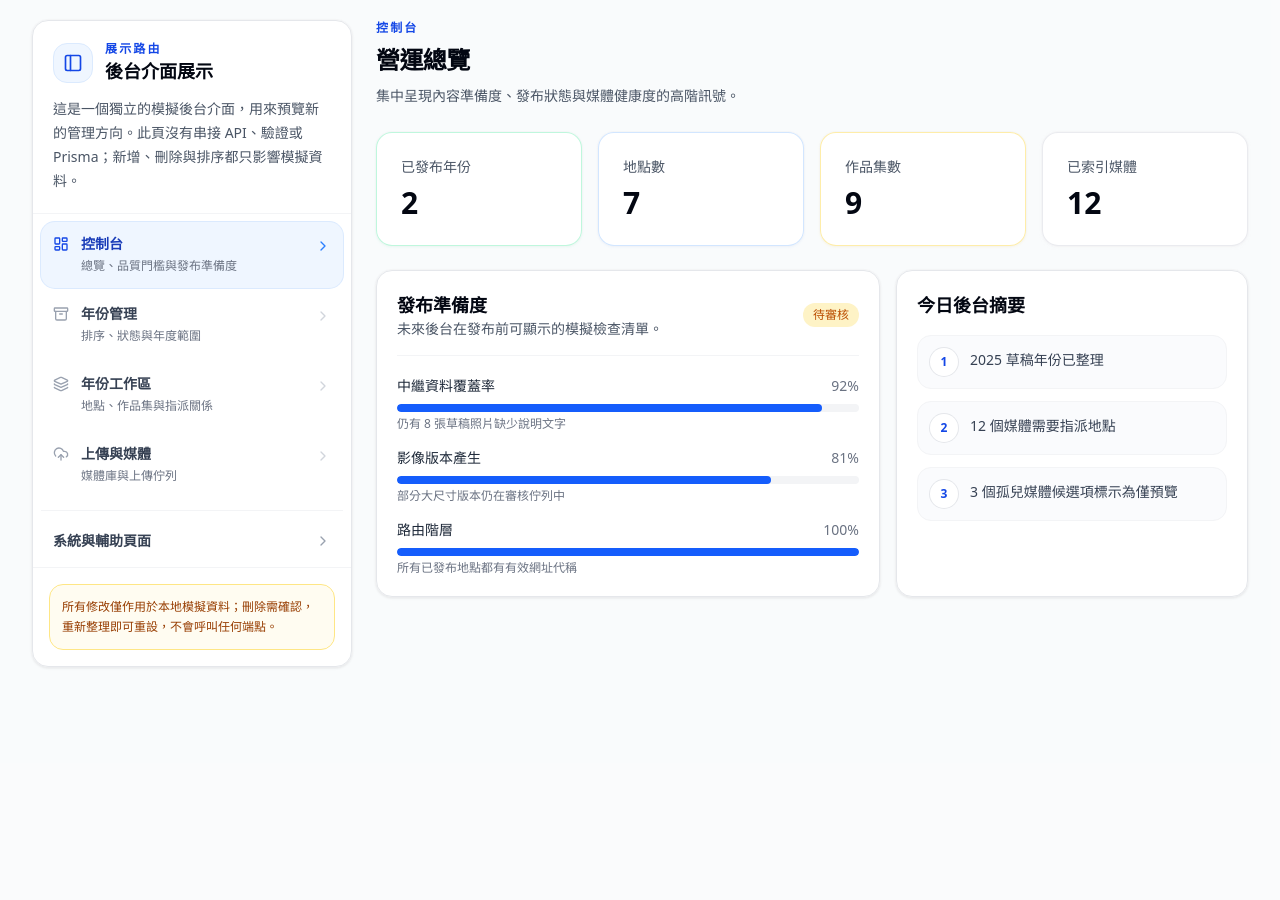
Scenario: bulk deletion clears selection and shows an empty library
Click the button "上傳與媒體 媒體庫與上傳佇列" at (116, 454), box top-left (41, 432), bottom-right (343, 498)
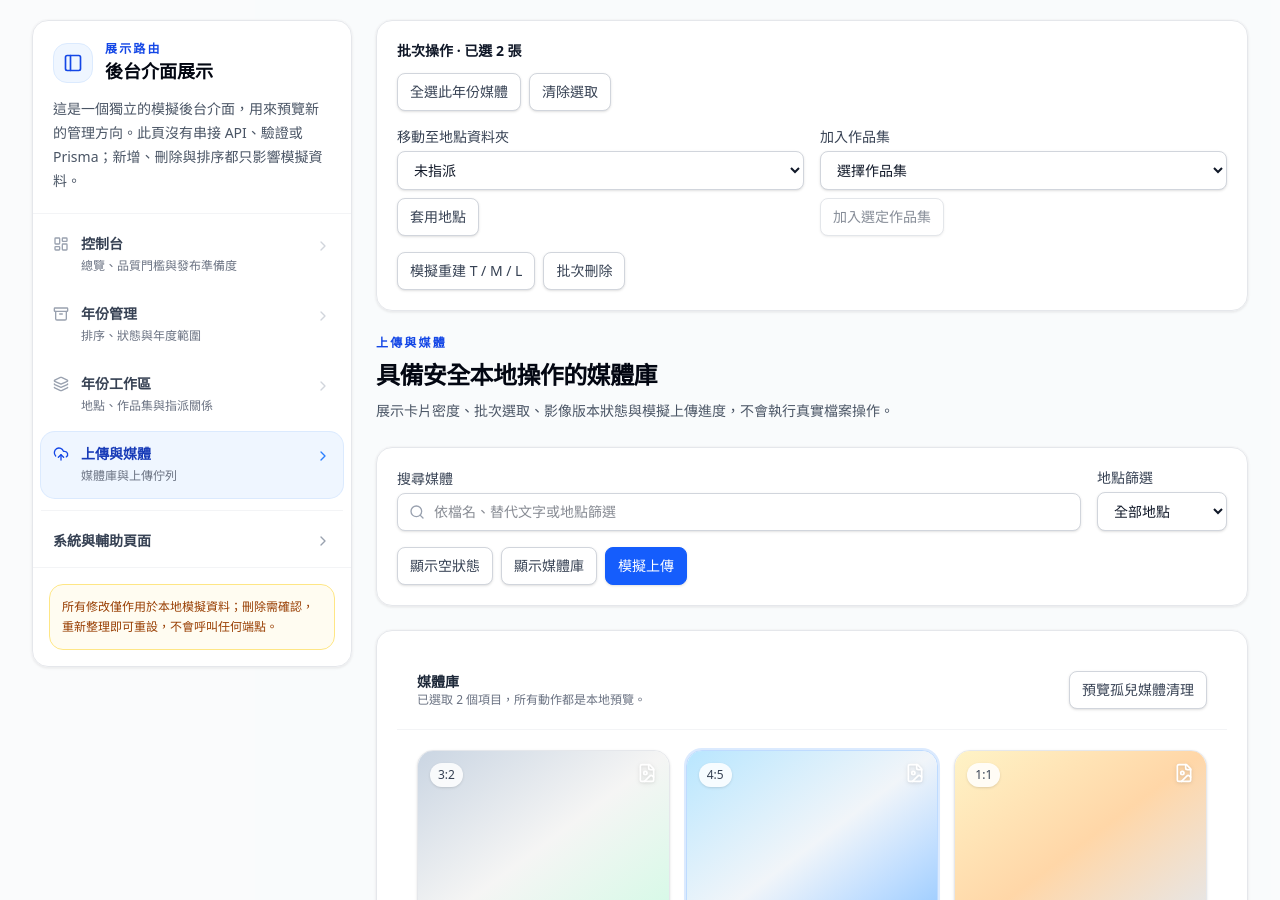
Click the button "全選此年份媒體" at (459, 92), box top-left (397, 73), bottom-right (521, 111)
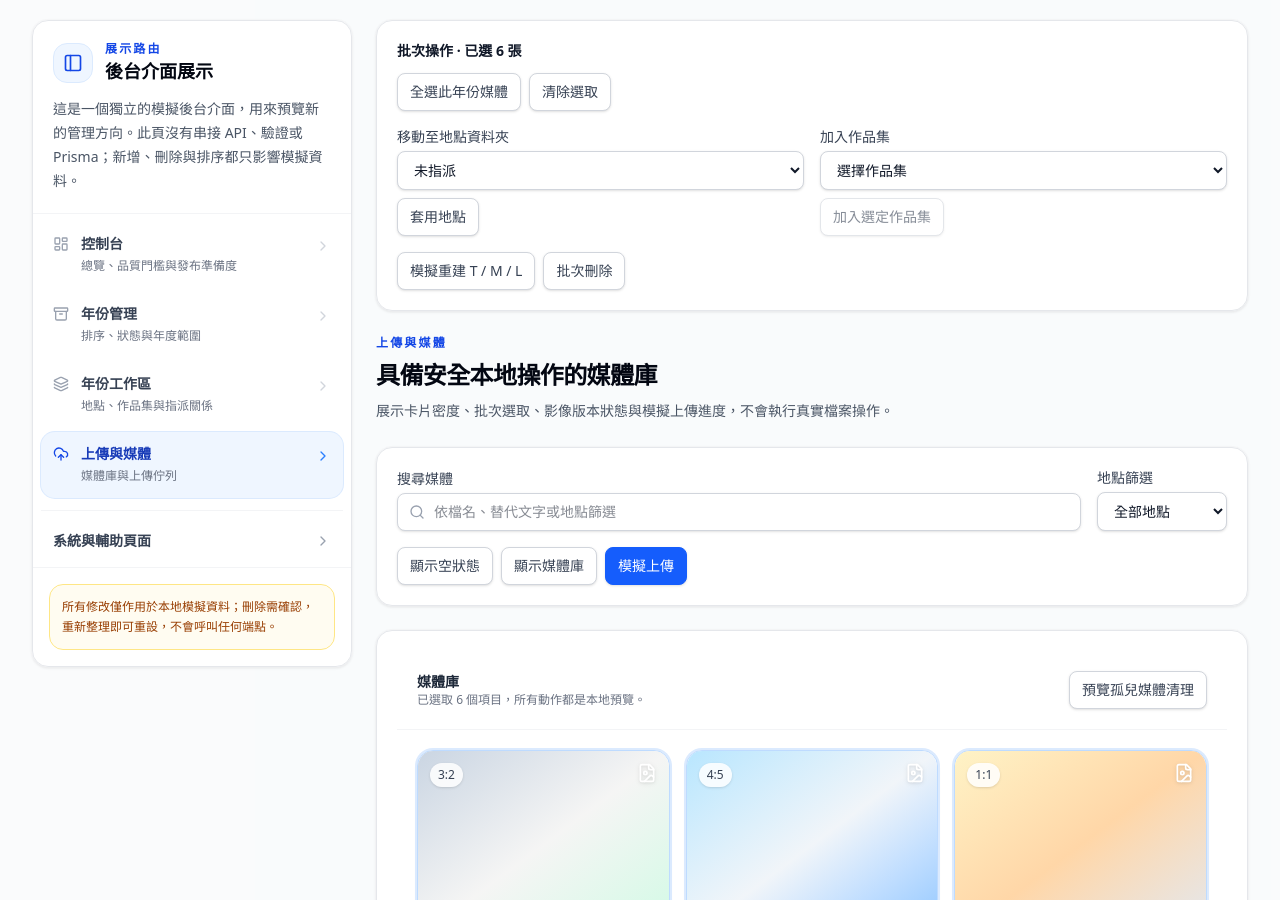
Click the button "批次刪除" at (584, 271), box top-left (543, 252), bottom-right (625, 290)
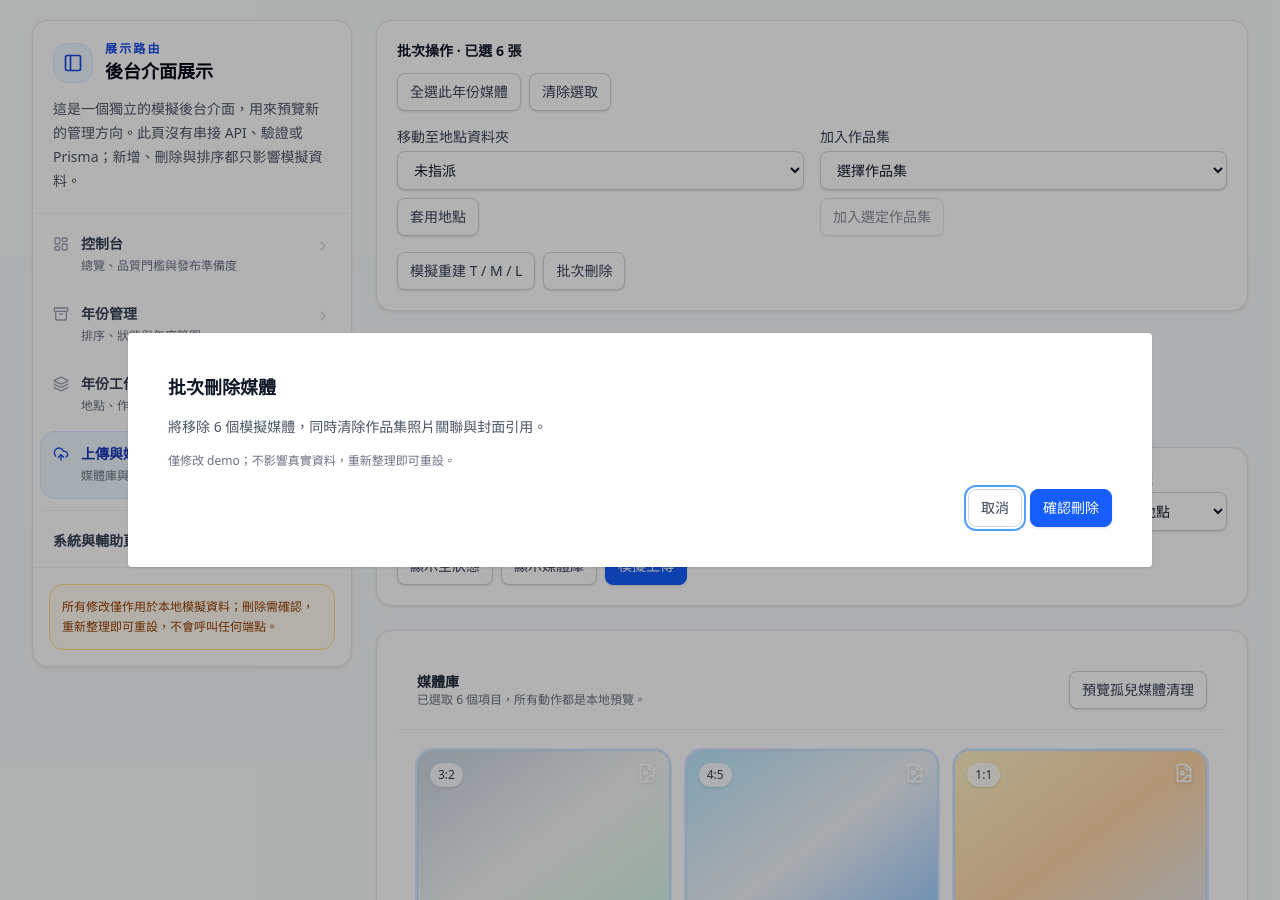
Result: the dialog shows "6 個模擬媒體" at top-left (168, 417), bottom-right (547, 436)
Click the button "確認刪除" at (1071, 508), box top-left (1030, 489), bottom-right (1112, 527)
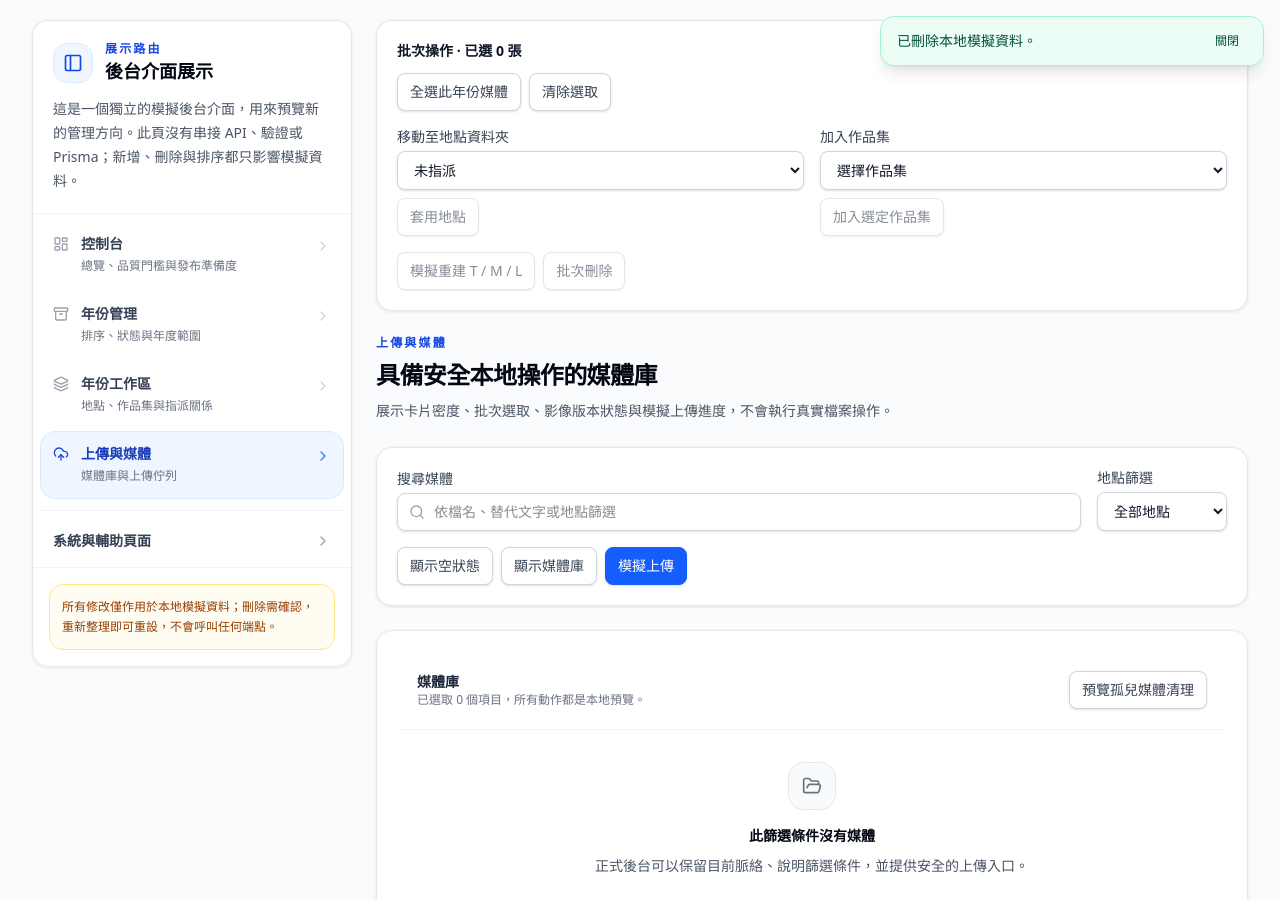
Result: the heading "批次操作 · 已選 0 張" is shown at top-left (397, 41), bottom-right (522, 60)
Result: the heading "此篩選條件沒有媒體" is shown at top-left (749, 826), bottom-right (875, 845)
